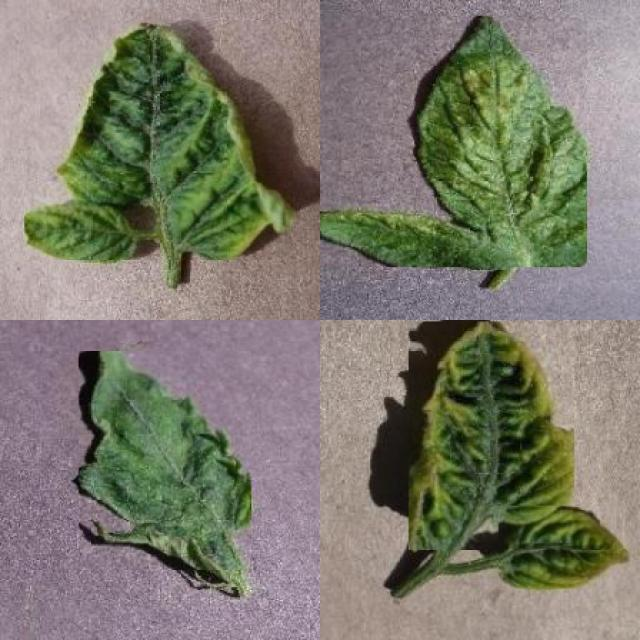Mosaic Virus: (78, 350, 252, 570)
Spider Mites: (320, 16, 587, 268)
Yellow Leaf Curl Virus: (25, 20, 294, 260), (409, 322, 574, 551), (498, 506, 632, 590)
